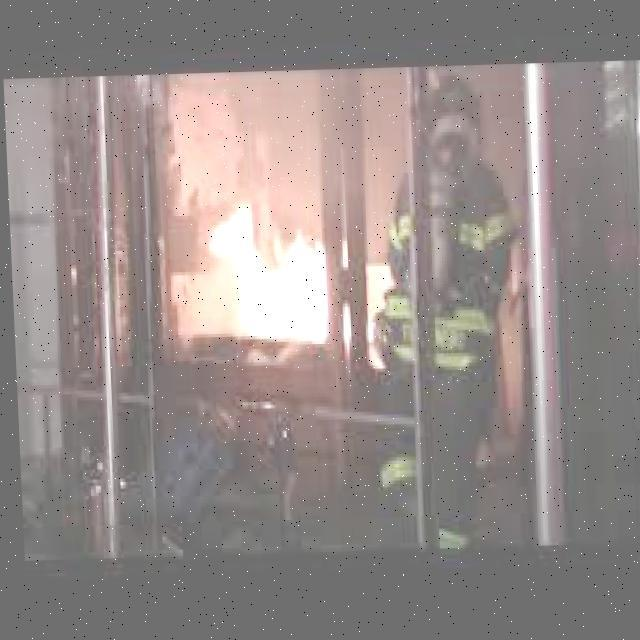Fire: (182, 176, 368, 362)
